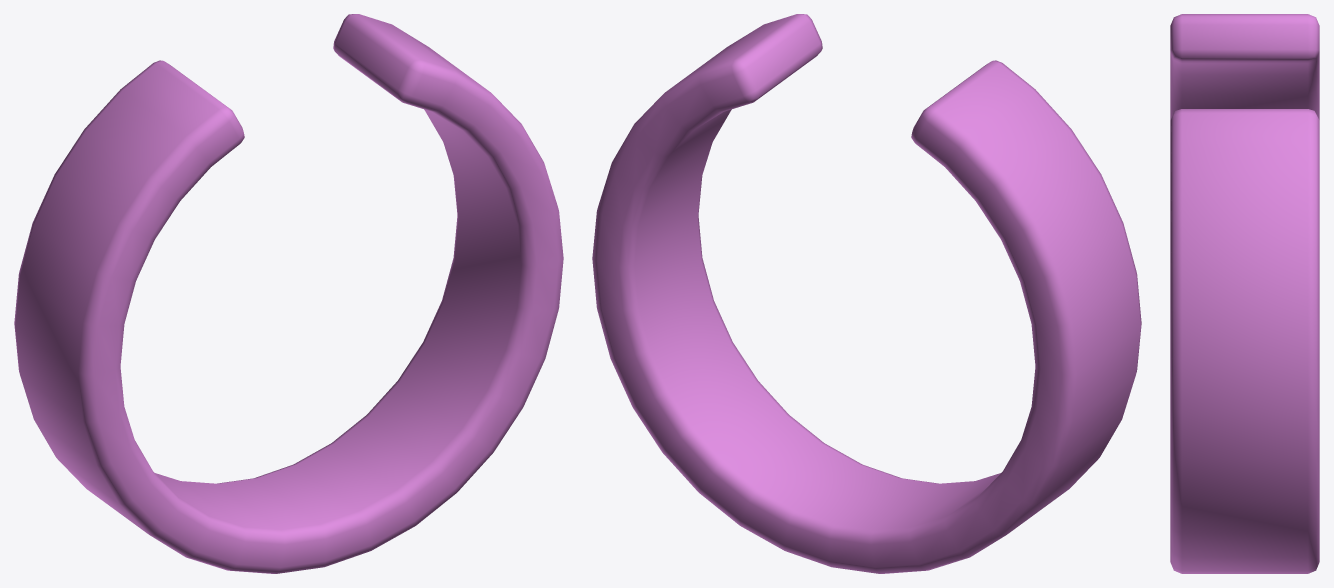
Rendered from CircleRotate.fbx.
3 renders of one model, left to right at view 1: azimuth 30°, elevation 25°; view 2: azimuth 150°, elevation 25°; view 3: azimuth 270°, elevation 25°, orthographic.
Visible parts, largest first — view 1: Circle.029; view 2: Circle.029; view 3: Circle.029.
Boxes of the visible parts, <box> form: Circle.029: <box>14,14,563,573</box>; Circle.029: <box>592,14,1141,573</box>; Circle.029: <box>1170,14,1319,573</box>.
Bounding box in the file's own units: 8.8 × 8.4 × 2.34.
